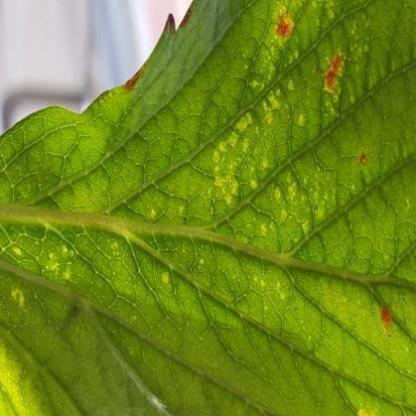Strawberry_Angular_LeafSpot: (0, 0, 401, 342)
